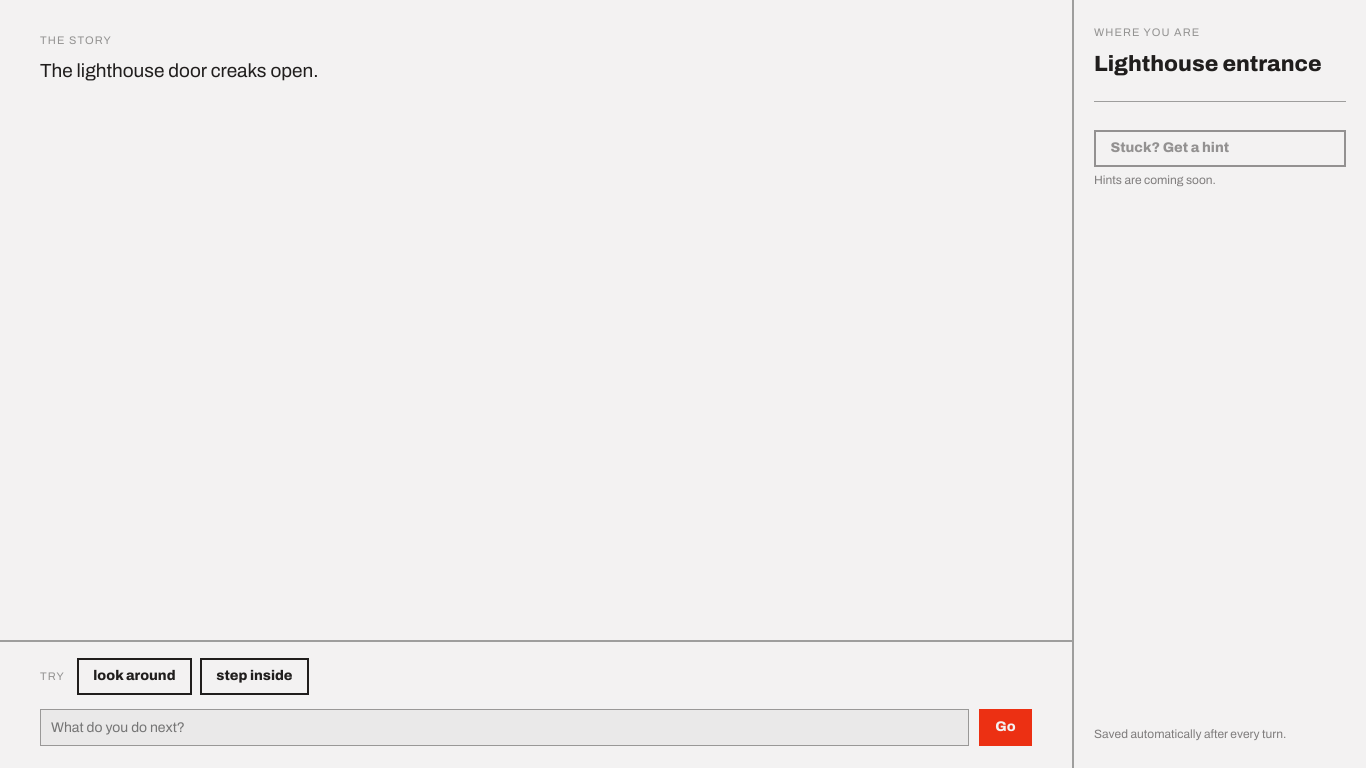
Test: PlayPage (008-core-gameplay-done) › appends the new turn after a free-text submit
This screenshot has width=1366, height=768.
In the field labelled "What do you do next?": (504, 728) 40,709 -> 969,746, type "look around"
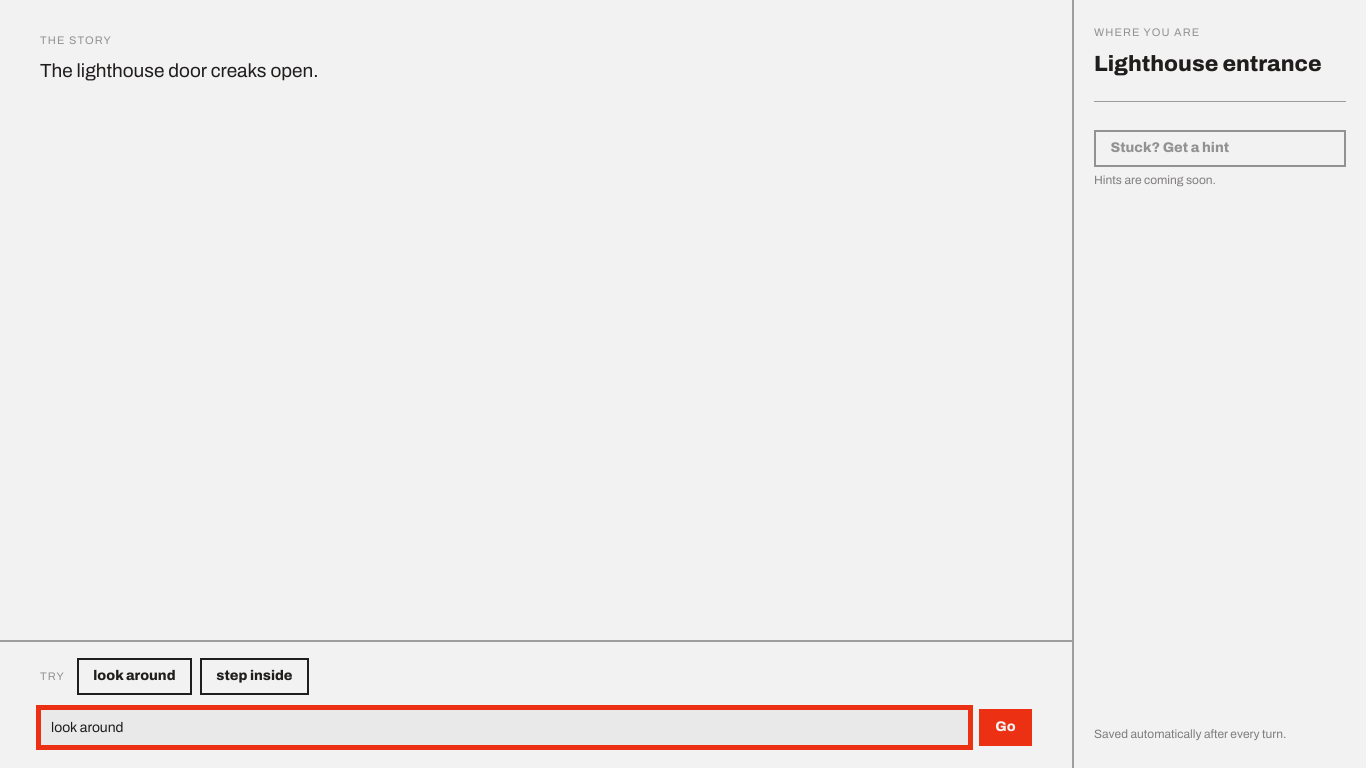
Click the button "Go": (1005, 728) 979,709 -> 1032,746
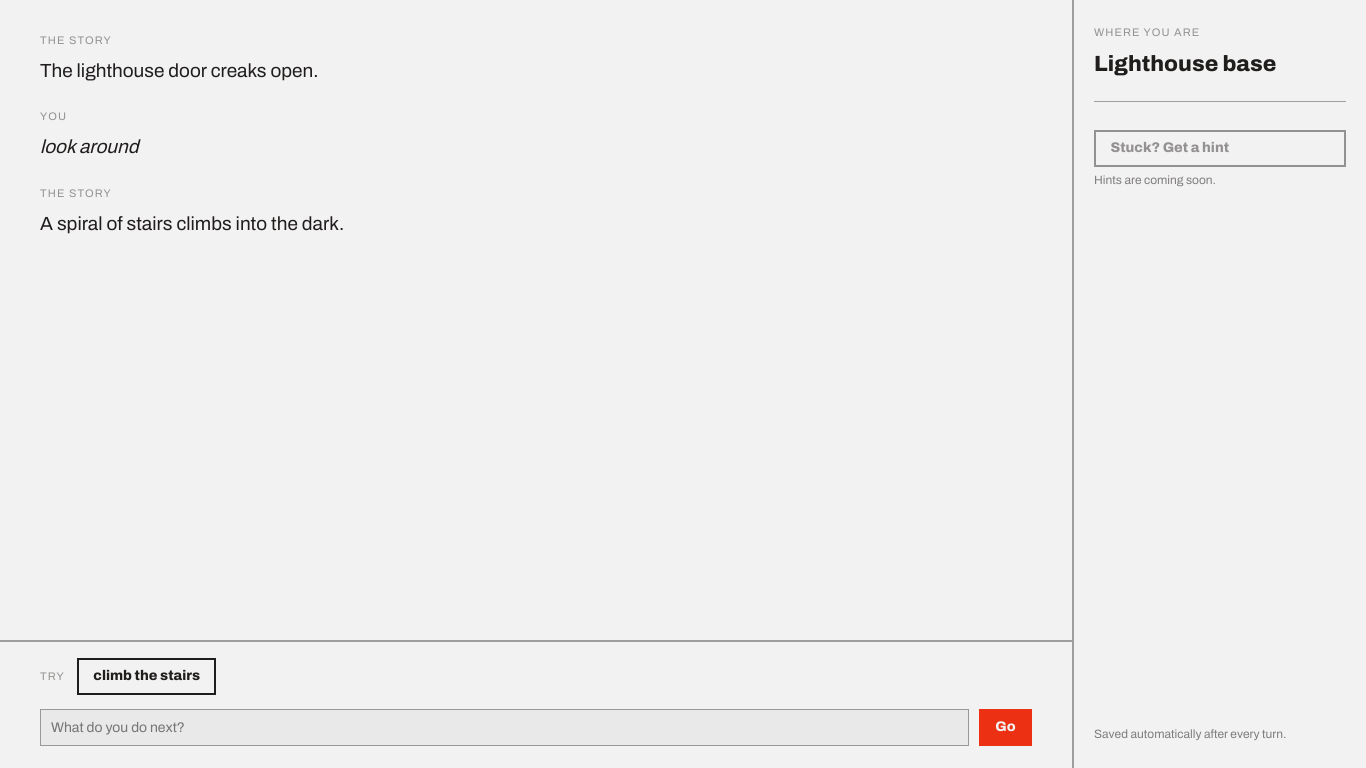
expect the text "A spiral of stairs climbs into the dark." is shown: met, box 40,213 -> 344,234
